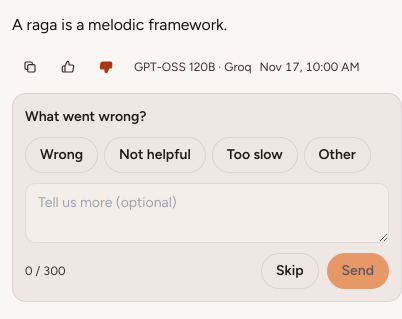
thumbs under a reply › Skip keeps the thumbs down without a reason
Earlier steps of the test are not shown.
Click the button "Skip". click: (290, 271)
box: x1=261 y1=253 x2=318 y2=289
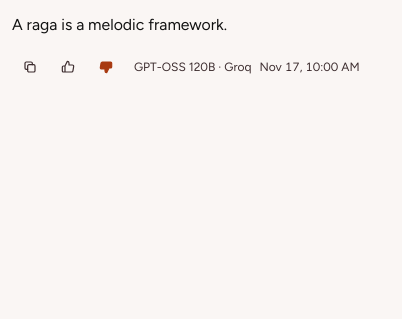
Expected: the text "What went wrong?" is gone
